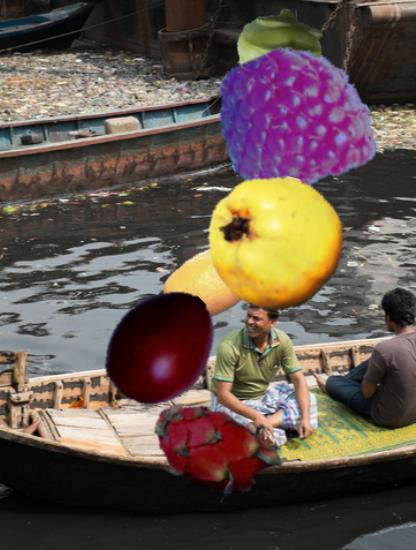Kohlrabi: (236, 5, 325, 94)
Kumquats: (162, 241, 251, 330)
Pepper: (225, 205, 307, 287)
Pitahaya: (148, 381, 283, 516)
Quince: (205, 175, 345, 315)
Raspberry: (218, 45, 367, 194)
Tamarillo: (91, 284, 226, 419)
